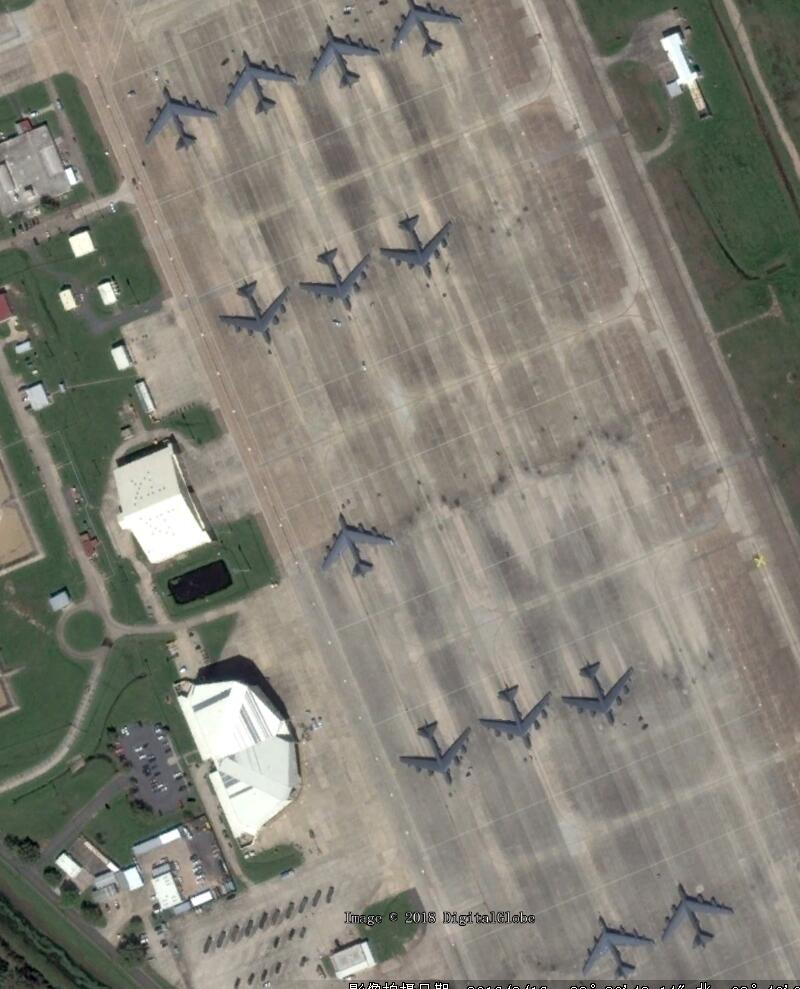A8: (396, 717, 478, 790), (561, 657, 638, 733), (220, 48, 300, 120), (480, 681, 557, 755), (576, 911, 657, 981), (661, 880, 738, 953), (378, 212, 459, 281), (303, 22, 383, 91), (218, 280, 293, 348), (296, 247, 375, 311), (143, 89, 218, 155), (322, 513, 394, 580), (386, 1, 469, 59)
